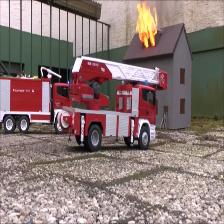fire: (135, 1, 158, 49)
